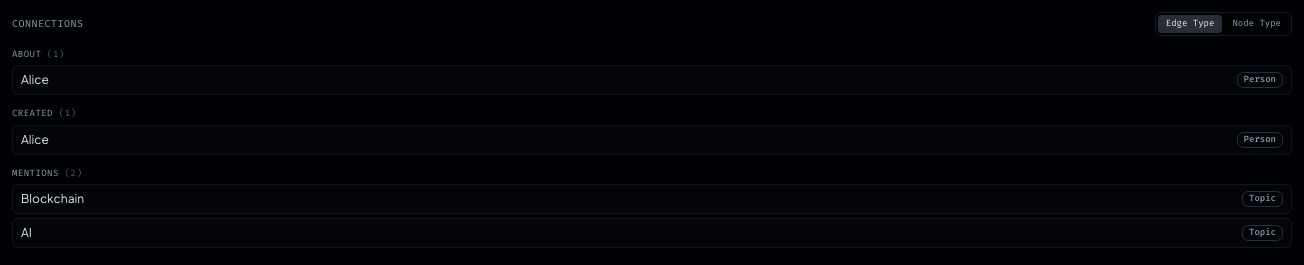
Test: ConnectionsSection – node type grouping toggle › can toggle back to edge type mode
What coordinates should you click on to do the following:
click the button "Node Type"
I would click on:
 (1257, 24)
Its box is [1224,15,1289,32].
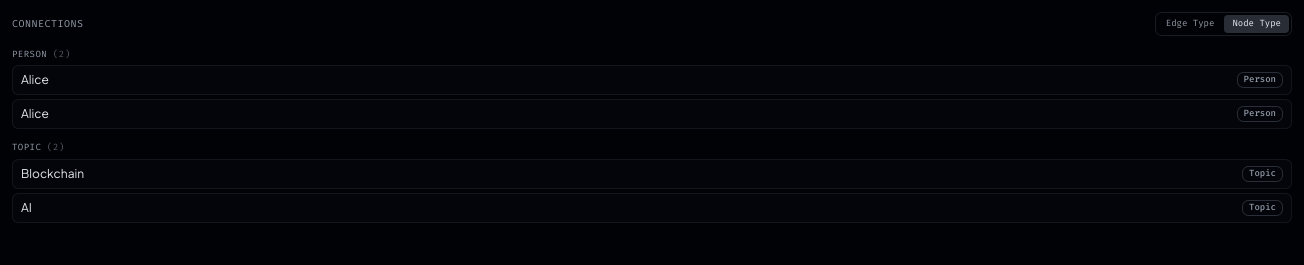
What coordinates should you click on to do the following:
click the button "Edge Type"
I would click on:
 (1190, 24)
Its box is [1158,15,1222,32].
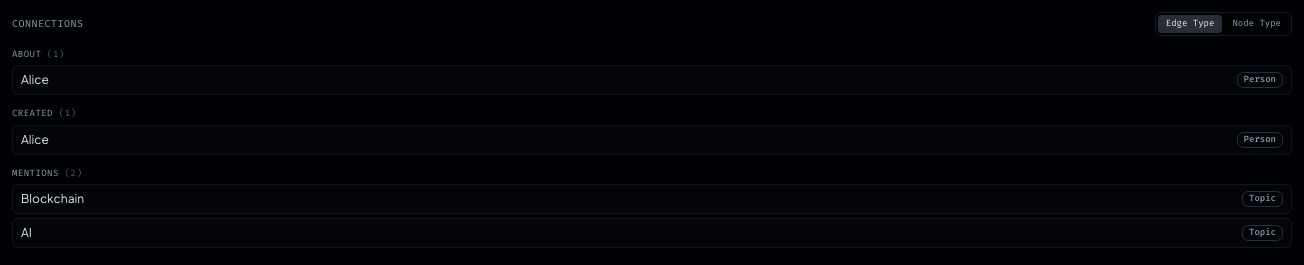
Now the text "MENTIONS (2)" is shown, box [12,166,82,178]
